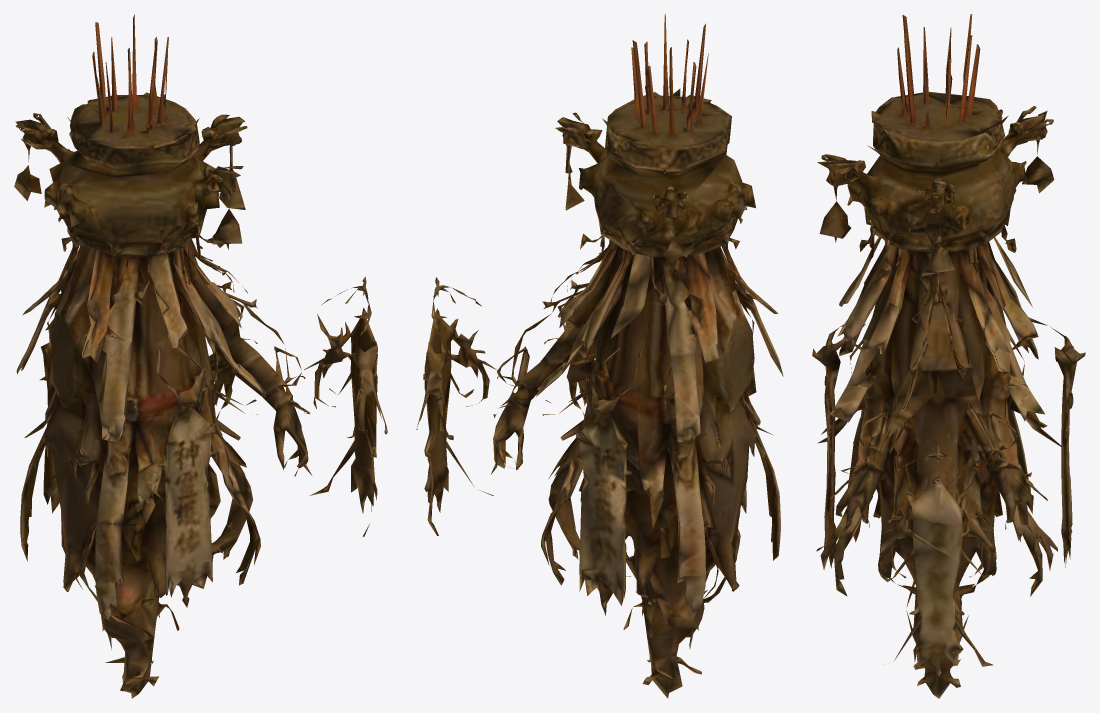
Rendered from mob_xianghuo.glb.
3 views of the same model, side by side, from view 1: azimuth 30°, elevation 25°; view 2: azimuth 150°, elevation 25°; view 3: azimuth 270°, elevation 25° (orthographic).
Parts seen in each view (by area): view 1: tripo_node_cf02cff9-86a2-4073-a57c-b16195a6f2cc; view 2: tripo_node_cf02cff9-86a2-4073-a57c-b16195a6f2cc; view 3: tripo_node_cf02cff9-86a2-4073-a57c-b16195a6f2cc.
Part boxes in pixels (x1=…): tripo_node_cf02cff9-86a2-4073-a57c-b16195a6f2cc: x1=14, y1=14, x2=387, y2=698; tripo_node_cf02cff9-86a2-4073-a57c-b16195a6f2cc: x1=416, y1=14, x2=783, y2=698; tripo_node_cf02cff9-86a2-4073-a57c-b16195a6f2cc: x1=812, y1=14, x2=1085, y2=698.
Bounding box in the file's own units: 0.4833 × 0.9787 × 0.3594.
Materials: 1 (1 with a texture image).
